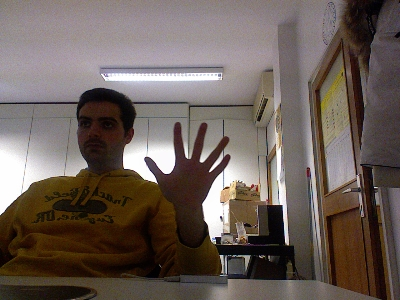布: (144, 121, 230, 205)
